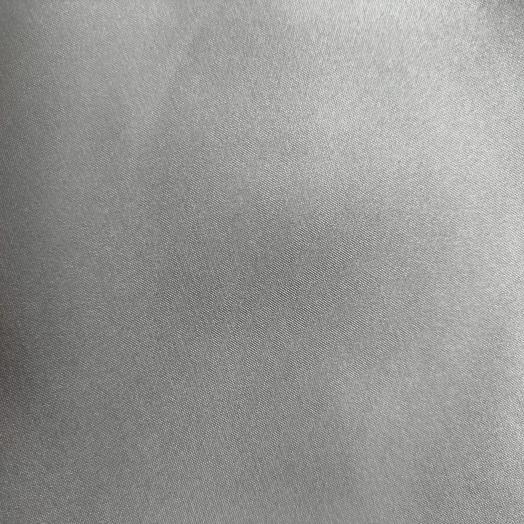sutra: (0, 1, 524, 524)
